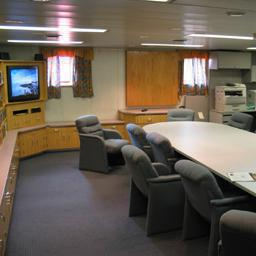Electrodomestico: (214, 84, 249, 112)
Ventana: (48, 52, 80, 87), (182, 55, 206, 93)
